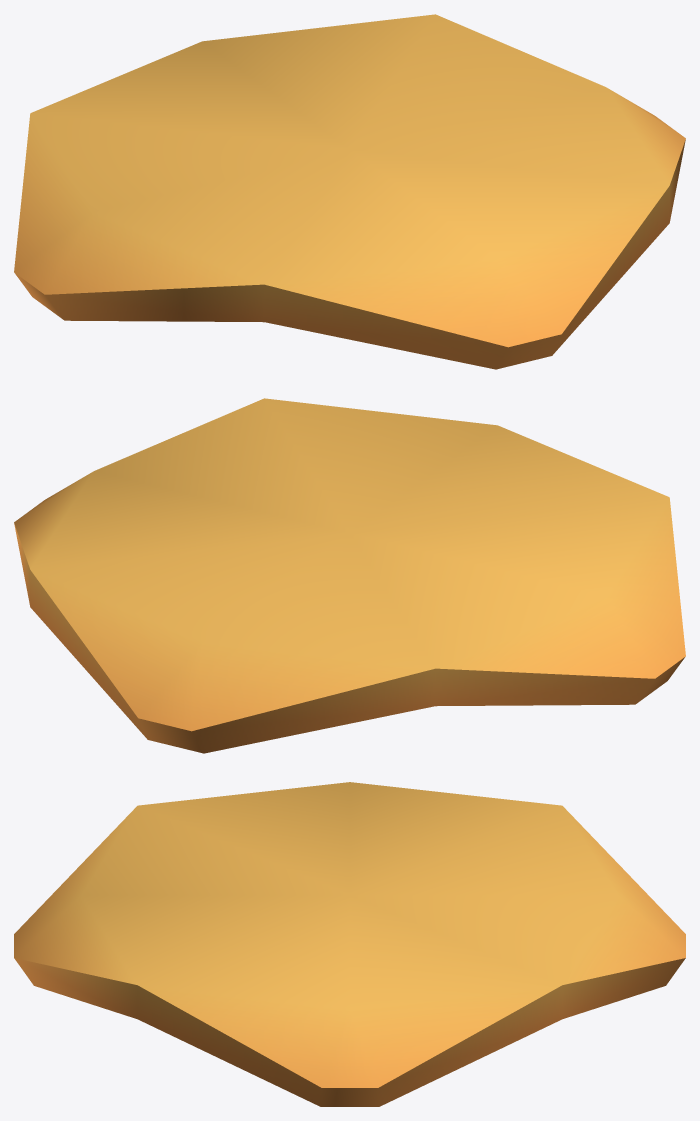
File: Cheese slice.glb
3 renders of one model, top to bottom at view 1: azimuth 30°, elevation 25°; view 2: azimuth 150°, elevation 25°; view 3: azimuth 270°, elevation 25°, orthographic. The views are drawn at different scales.
Visible parts, largest first — view 1: food_ingredient_cheese_slice; view 2: food_ingredient_cheese_slice; view 3: food_ingredient_cheese_slice.
Part boxes in pixels (box(x1,y1,x2,y2)): food_ingredient_cheese_slice: box(14, 14, 685, 369); food_ingredient_cheese_slice: box(14, 398, 685, 753); food_ingredient_cheese_slice: box(14, 782, 685, 1106).
Bounding box in the file's own units: 0.8243 × 0.1055 × 0.8243.
Materials: 1 (1 with a texture image).
